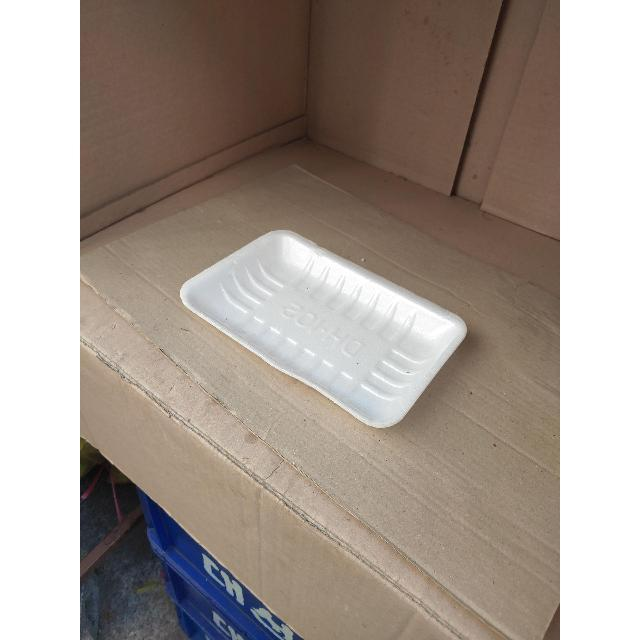Recipiente plastico: (182, 230, 466, 428)
